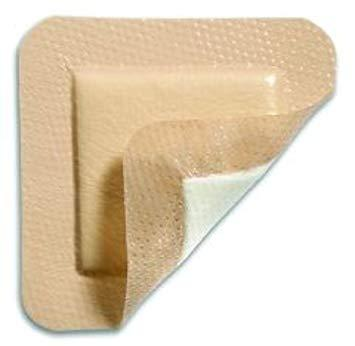bandage: (17, 16, 338, 334)
